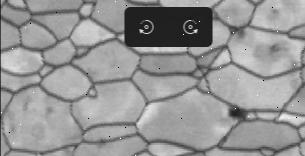good_void: (251, 38, 292, 61), (224, 98, 250, 124), (224, 21, 251, 42), (90, 135, 109, 152)
